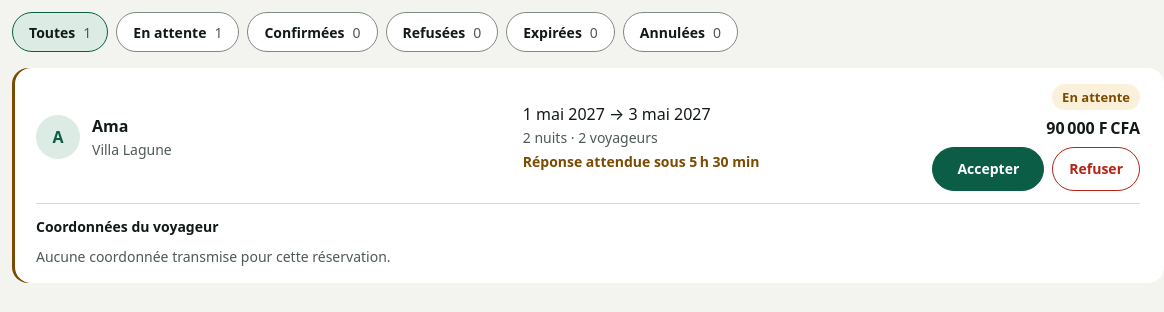
HostBookings › declines a pending request after confirmation
The image size is (1164, 312).
Click the button "Refuser": [1096, 169] box top-left (1052, 147), bottom-right (1140, 191)
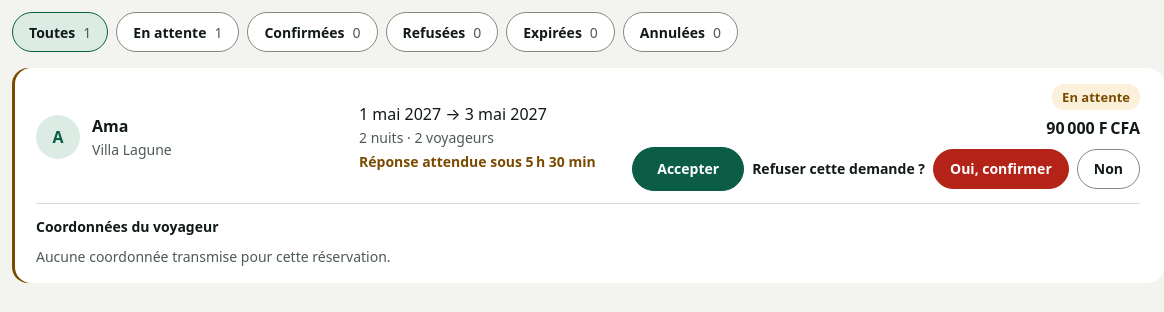
Click the button "Oui, confirmer": [1001, 169] box top-left (933, 149), bottom-right (1069, 189)
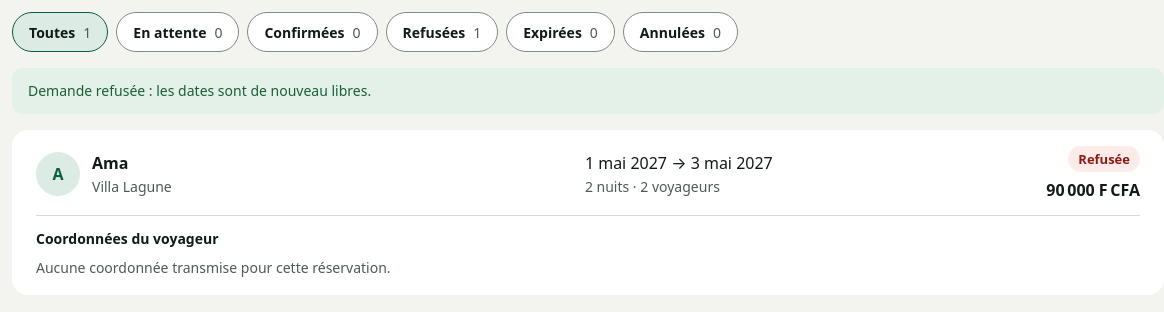
Check: the text "Refusée" is shown, box top-left (1068, 146), bottom-right (1140, 172)
